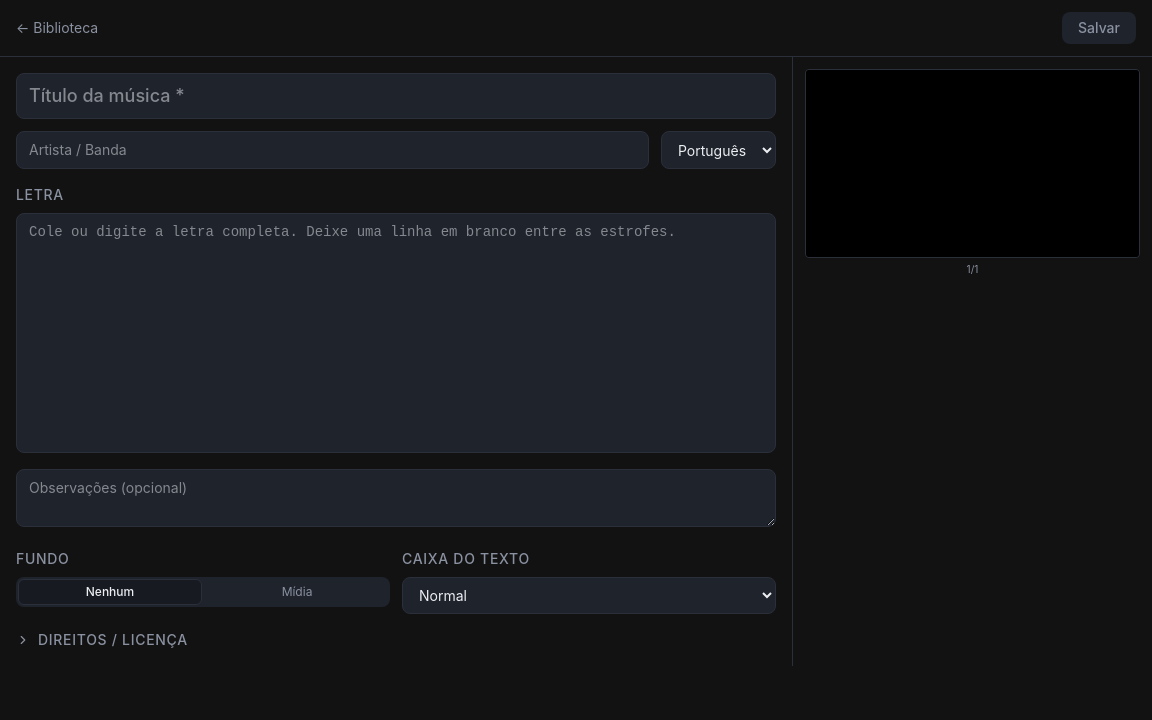
Scenario: SongEditor › preview pane renders and shows title slide text when title is filled
Type "Aleluia" into the field with placeholder "Título da música *". click: (396, 96)
box: x1=16 y1=73 x2=776 y2=119
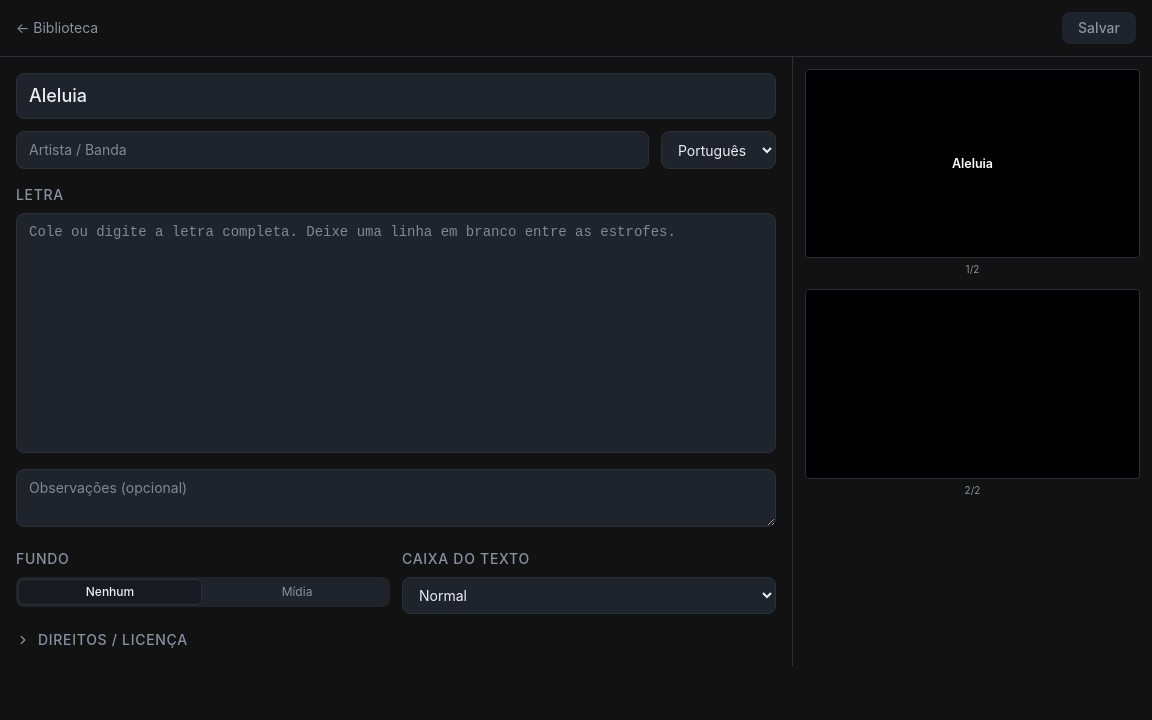
expect the text "Aleluia" is shown: met, box x1=952 y1=156 x2=993 y2=171
